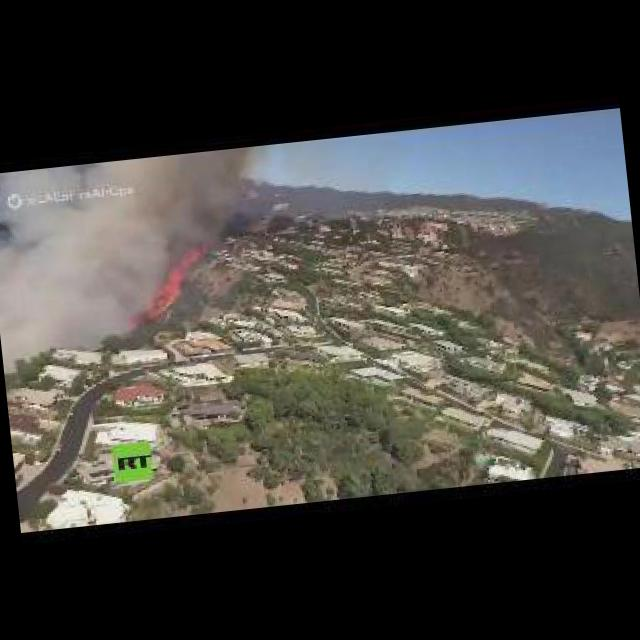Fire: (120, 240, 224, 330)
Smoke: (0, 139, 275, 357)
